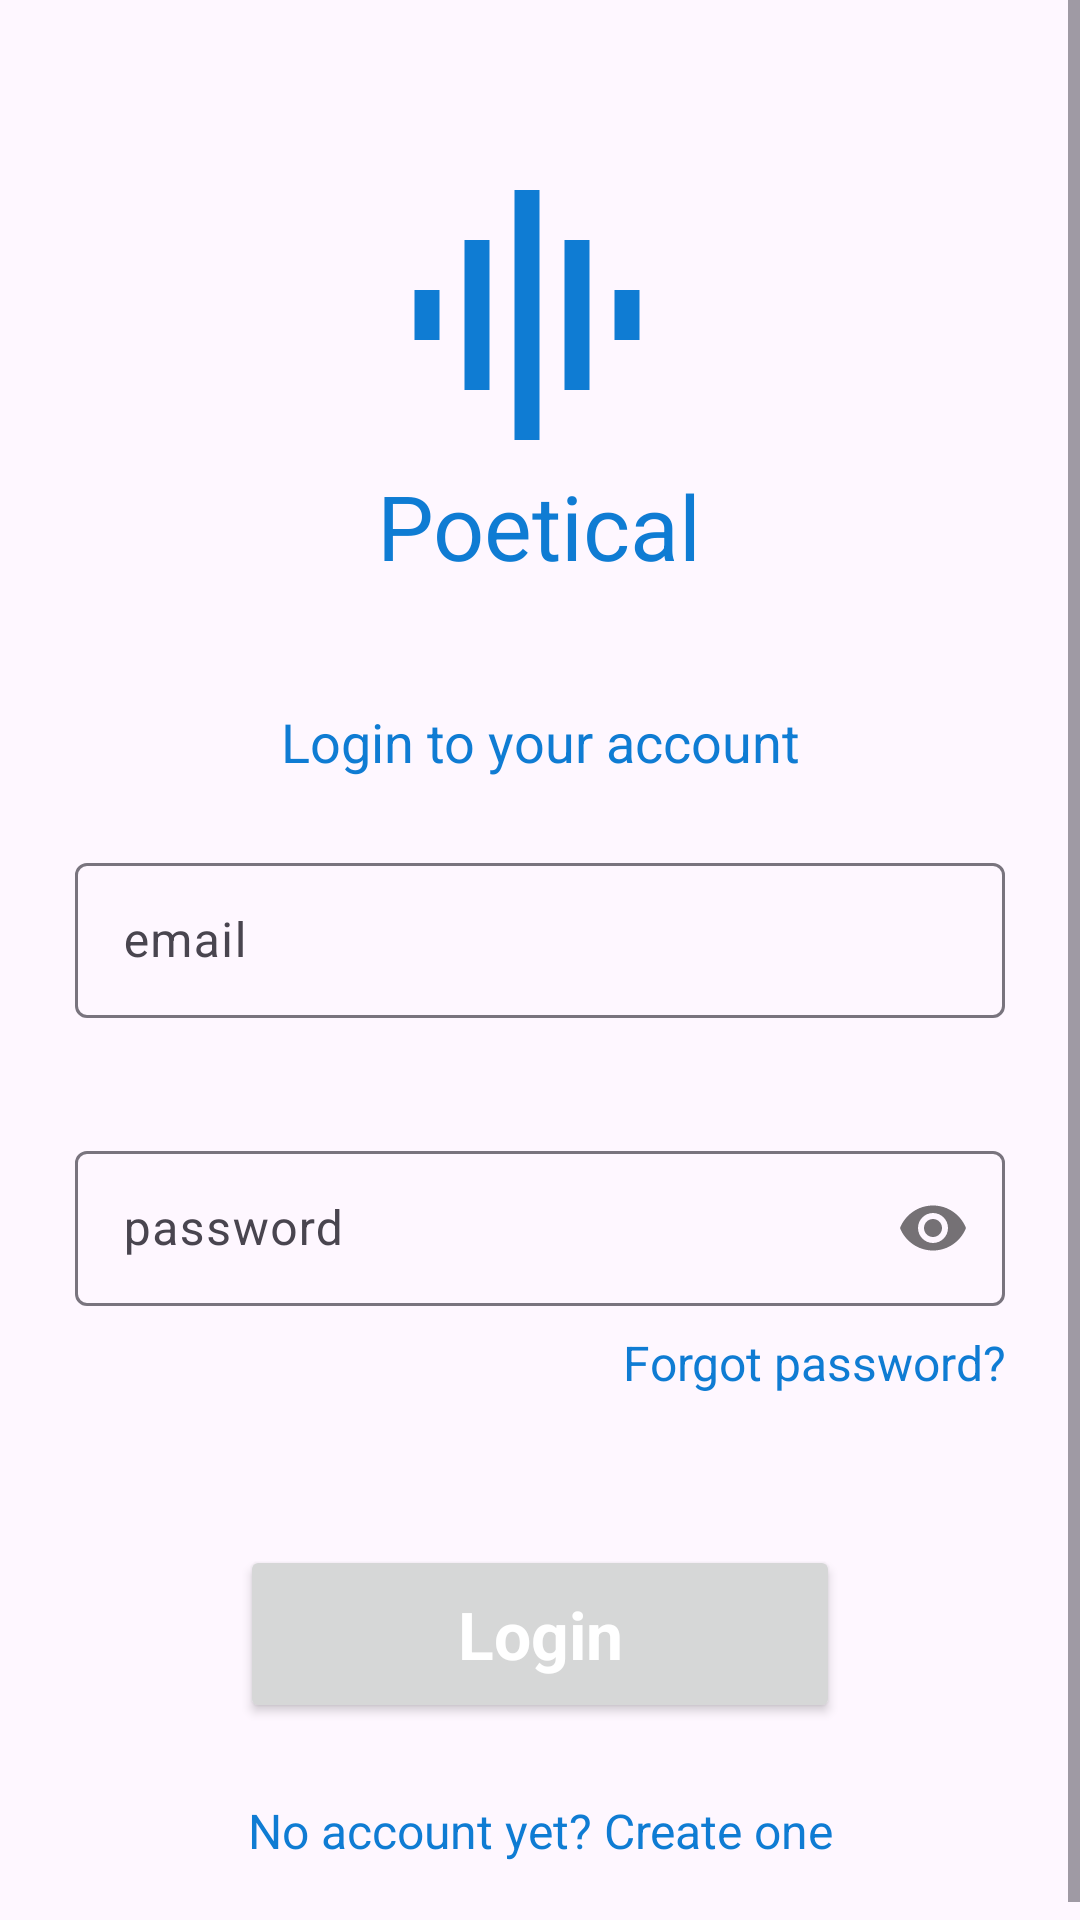

Icon bounding boxes for this 1080*1920 phone screenshot, format (x1, y1, x2, y2):
wave: (414, 190, 640, 440)
